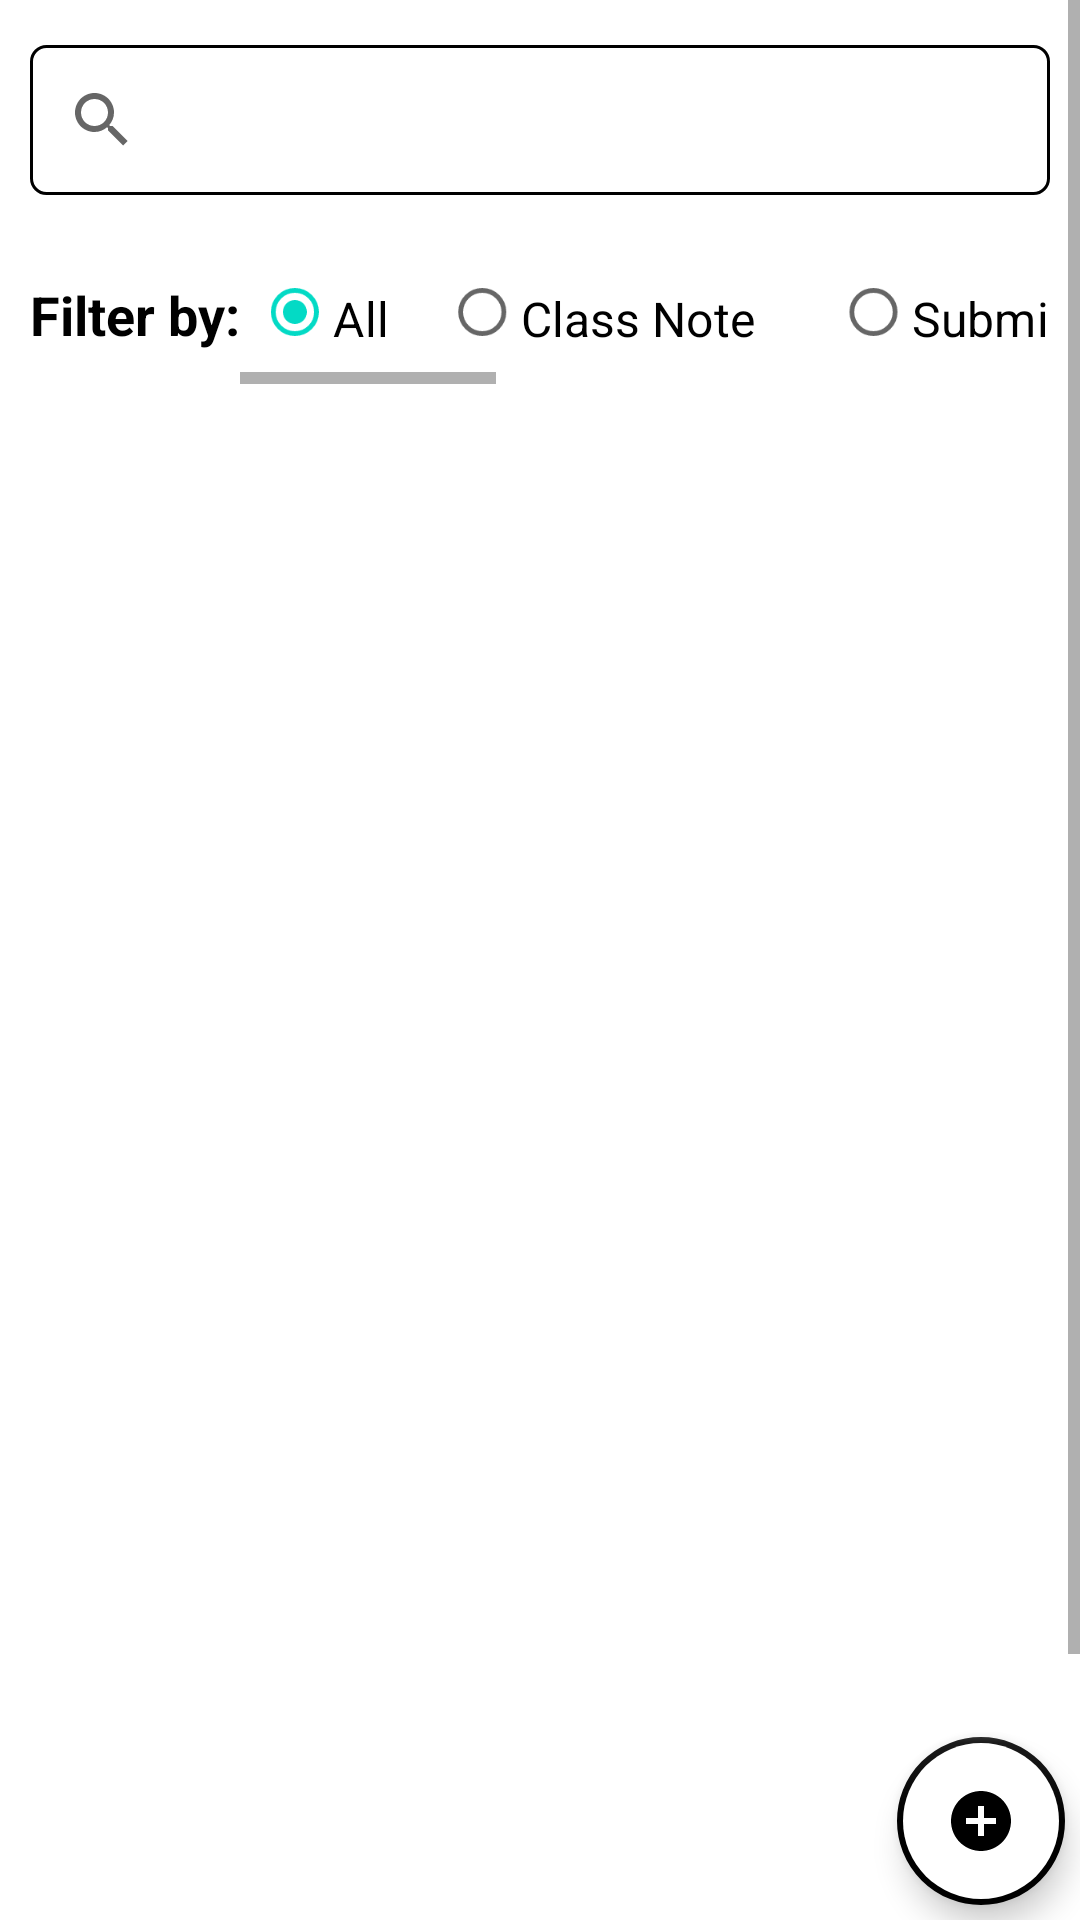

Where icons sit on this 1080w x 1920h app screen, as [left=x1, top=y1, right=x2, bottom=y2]:
floating action button: [left=897, top=1737, right=1065, bottom=1905]
